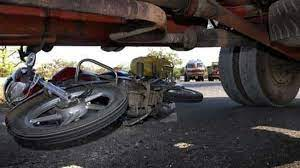accident: (6, 4, 274, 147)
